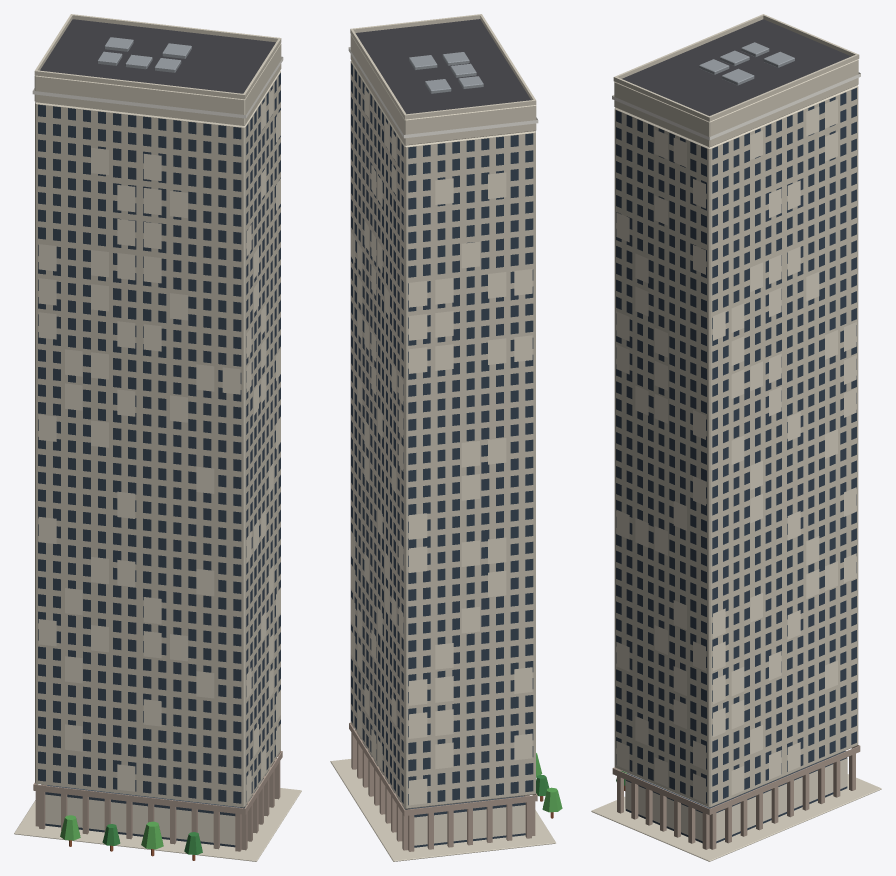
File: 575-market-street.glb
The picture shows the model from 3 angles, left to right: view 1: azimuth 30°, elevation 25°; view 2: azimuth 150°, elevation 25°; view 3: azimuth 270°, elevation 25°; orthographic projection. The views are drawn at different scales.
Visible parts, largest first — view 1: 575-market-street_body, 575-market-street_night_glow; view 2: 575-market-street_body, 575-market-street_night_glow; view 3: 575-market-street_body, 575-market-street_night_glow.
Boxes of the visible parts, <box> form: 575-market-street_body: <box>14,14,301,861</box>; 575-market-street_night_glow: <box>32,56,283,845</box>; 575-market-street_body: <box>330,14,562,861</box>; 575-market-street_night_glow: <box>348,47,538,845</box>; 575-market-street_body: <box>591,14,881,861</box>; 575-market-street_night_glow: <box>612,72,860,841</box>.
Bounding box in the file's own units: 62.56 × 175 × 62.6.
